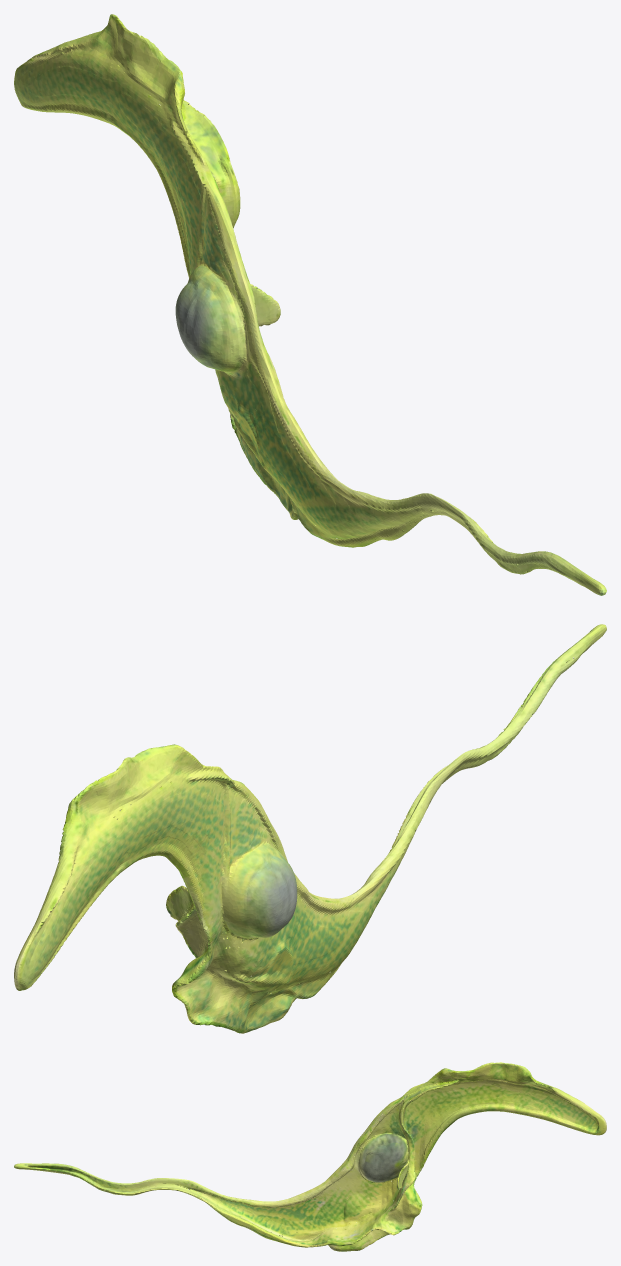
File: TrypanosomaCruzi3D.glb
3 views of the same model, one above another, from view 1: azimuth 30°, elevation 25°; view 2: azimuth 150°, elevation 25°; view 3: azimuth 270°, elevation 25° (orthographic). The views are drawn at different scales.
Visible parts, largest first — view 1: tripo_node_9b58f4a4-8a14-449d-aace-c284e10dafee; view 2: tripo_node_9b58f4a4-8a14-449d-aace-c284e10dafee; view 3: tripo_node_9b58f4a4-8a14-449d-aace-c284e10dafee.
Part boxes in pixels (box(x1,y1,x2,y2)): tripo_node_9b58f4a4-8a14-449d-aace-c284e10dafee: box(14, 14, 606, 595); tripo_node_9b58f4a4-8a14-449d-aace-c284e10dafee: box(14, 624, 606, 1033); tripo_node_9b58f4a4-8a14-449d-aace-c284e10dafee: box(14, 1062, 606, 1251).
Bounding box in the file's own units: 0.1066 × 0.3489 × 1.
1 material, 1 textured.
